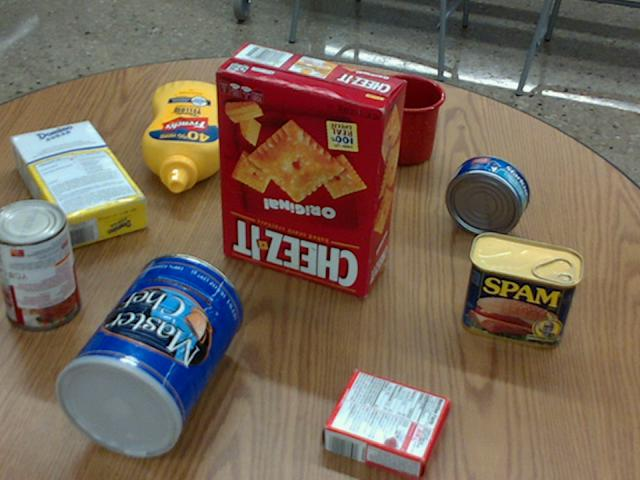cracker_box: (215, 43, 406, 295)
gelatin_box: (322, 369, 449, 479)
large_marker: (281, 99, 324, 155)
master_chef_can: (56, 252, 243, 457)
mug: (362, 74, 444, 165)
mustard_bottle: (141, 81, 232, 191)
potted_meat_can: (461, 233, 583, 347)
sugar_box: (9, 116, 147, 250)
tomato_soup_can: (0, 197, 80, 329)
tuna_fish_can: (445, 155, 528, 236)
